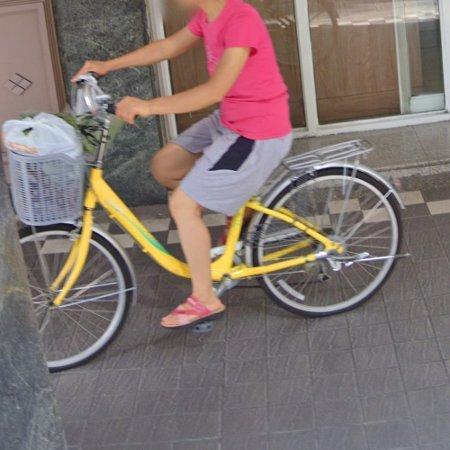bicycles: (20, 74, 191, 372), (211, 140, 409, 317)
